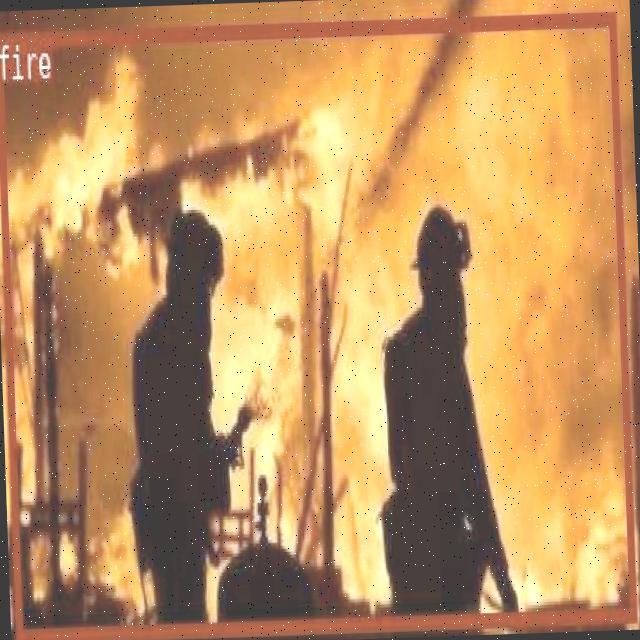fire: (0, 9, 634, 638)
